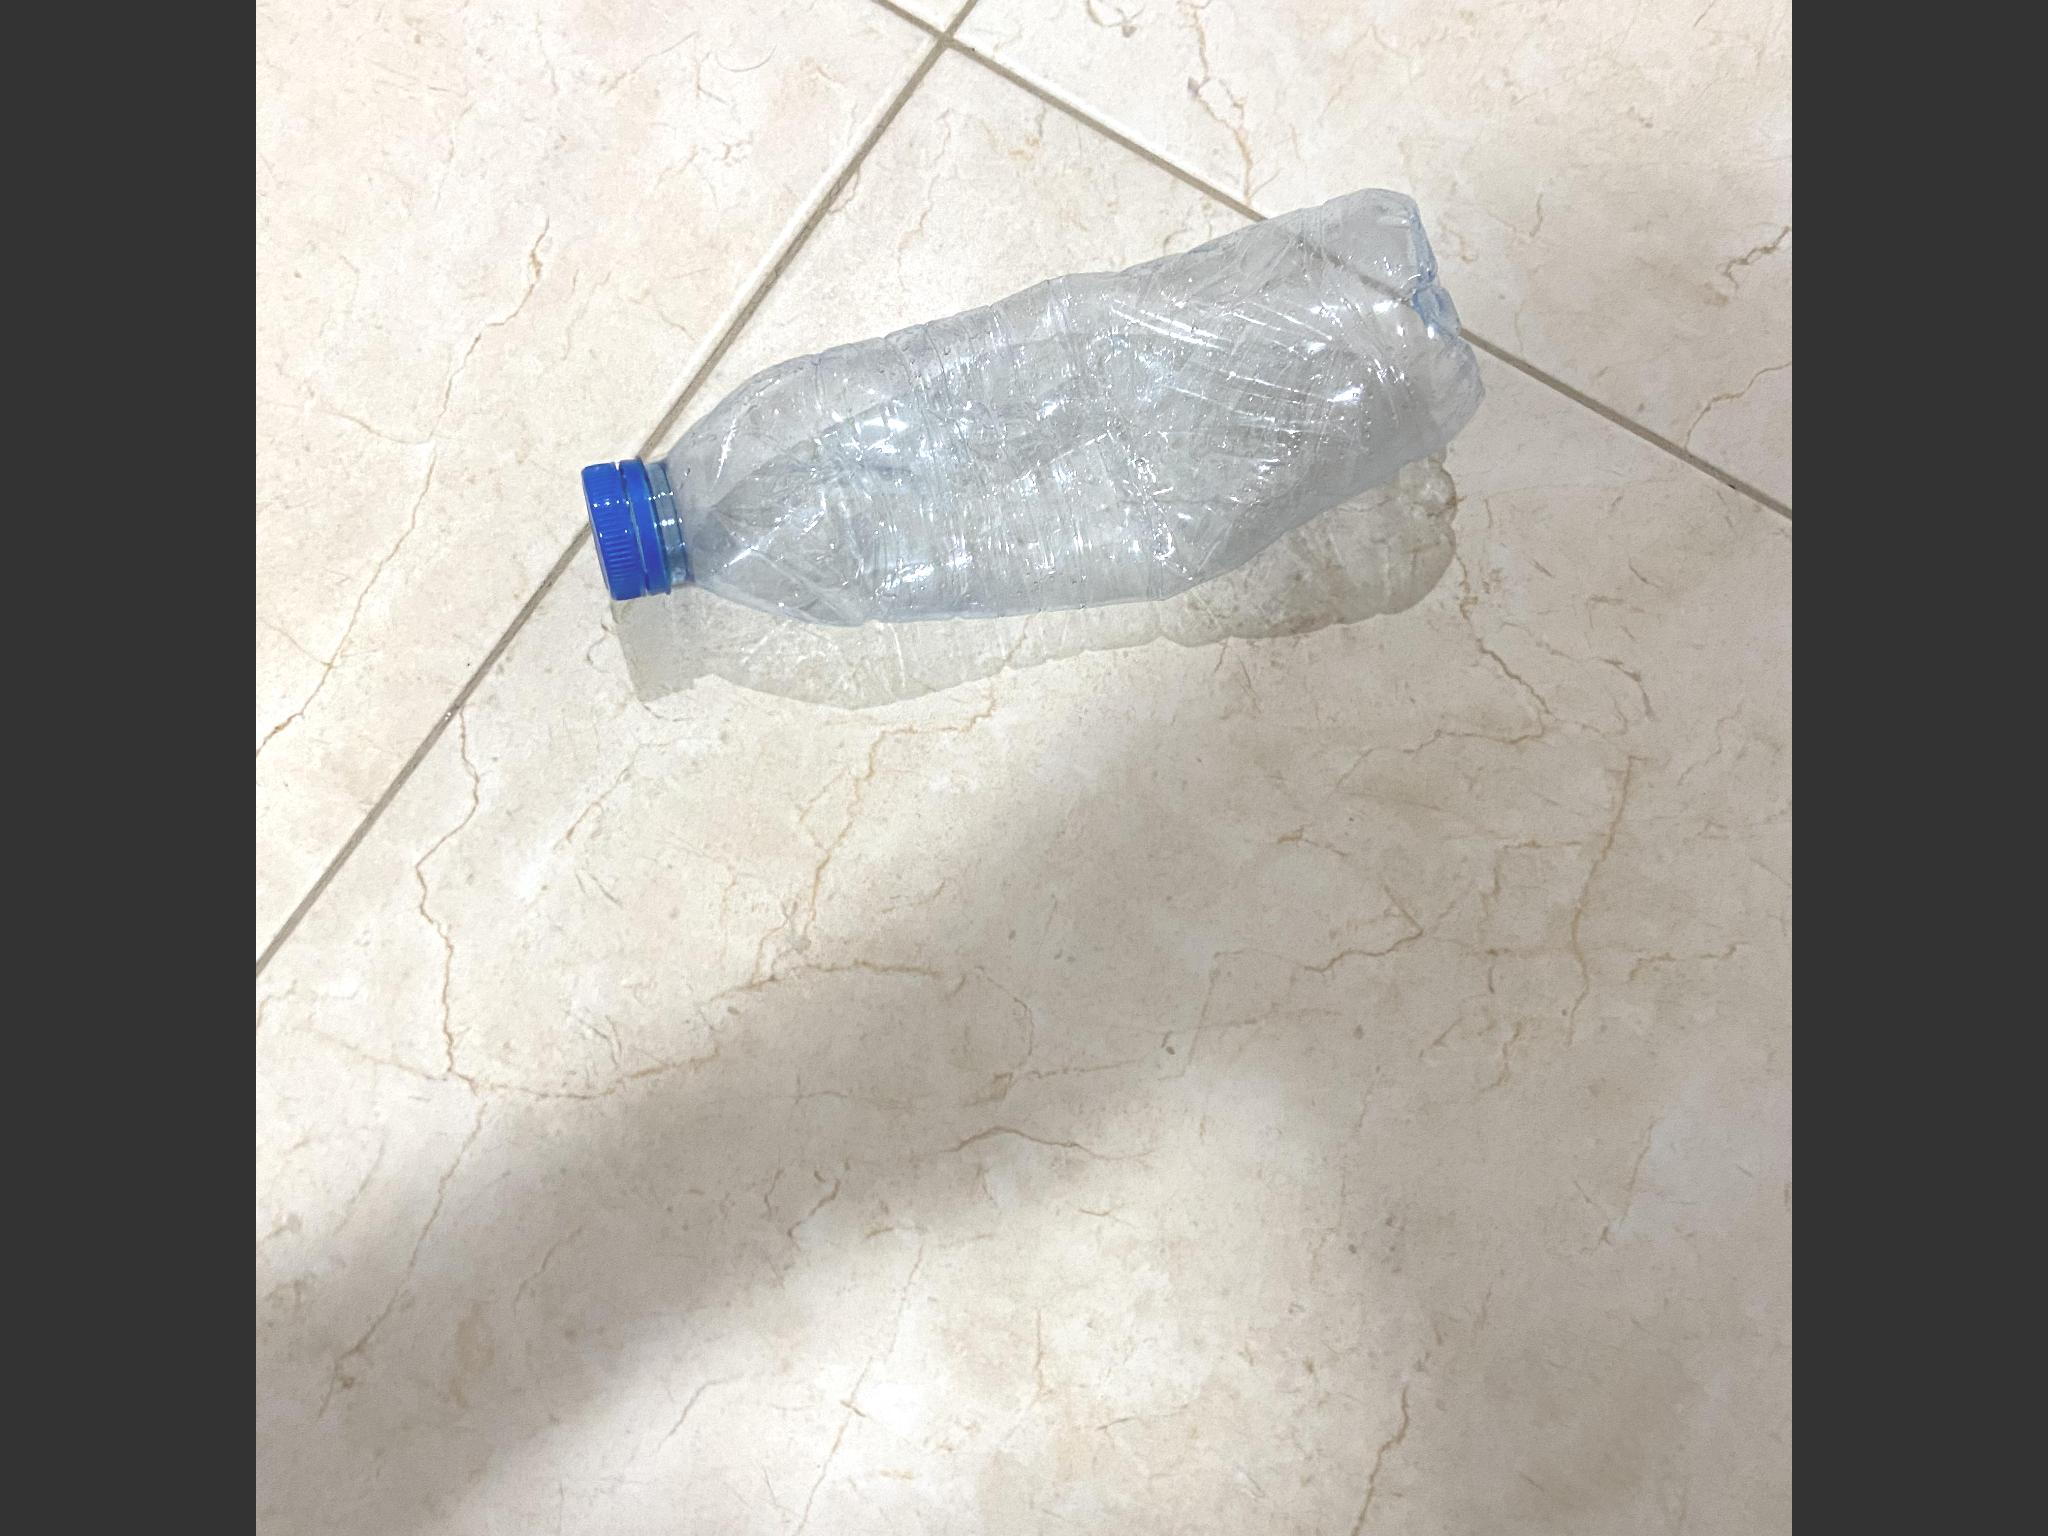bottle: (569, 168, 1458, 663)
